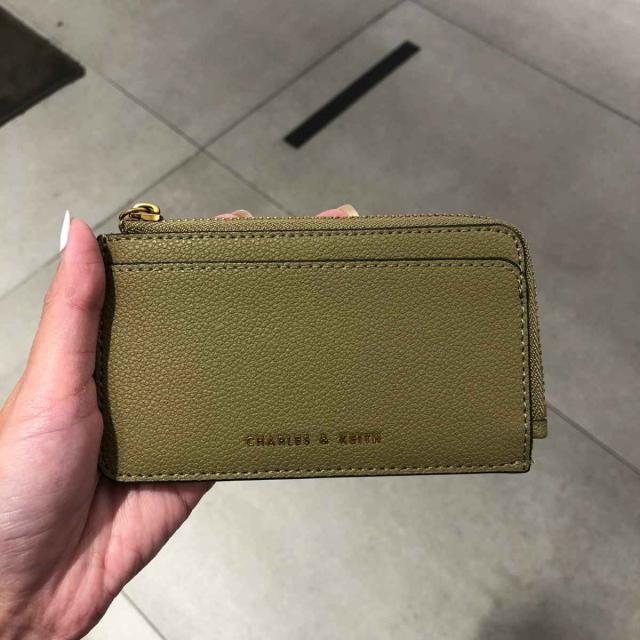Handbag: (70, 196, 554, 498)
